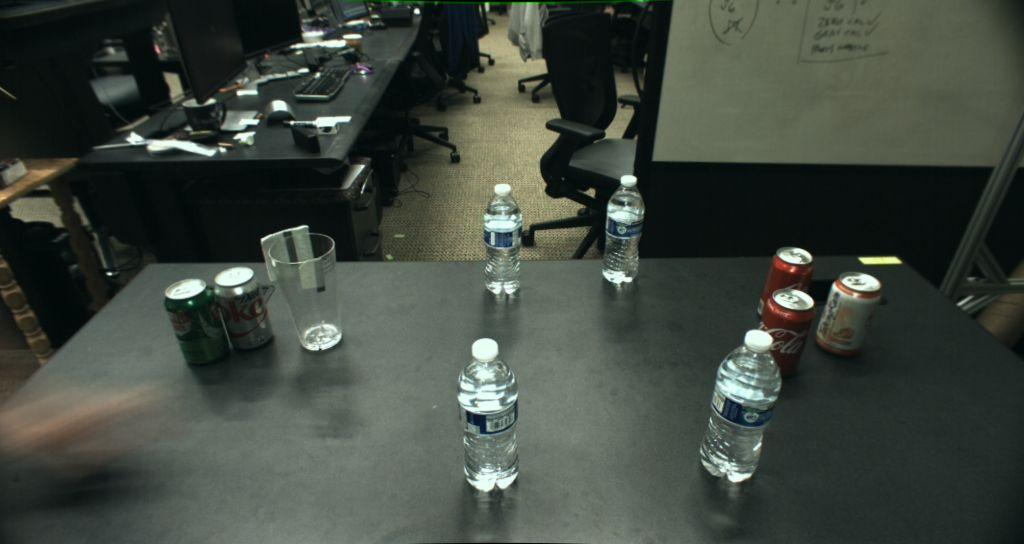can_diet_coke: (214, 267, 274, 350)
can_ginger_ale: (164, 278, 231, 365)
can_talking_rain_peach_nectarine: (815, 271, 881, 357)
water_bottle: (699, 329, 781, 483), (457, 338, 519, 492), (602, 174, 644, 283), (483, 183, 521, 295)
